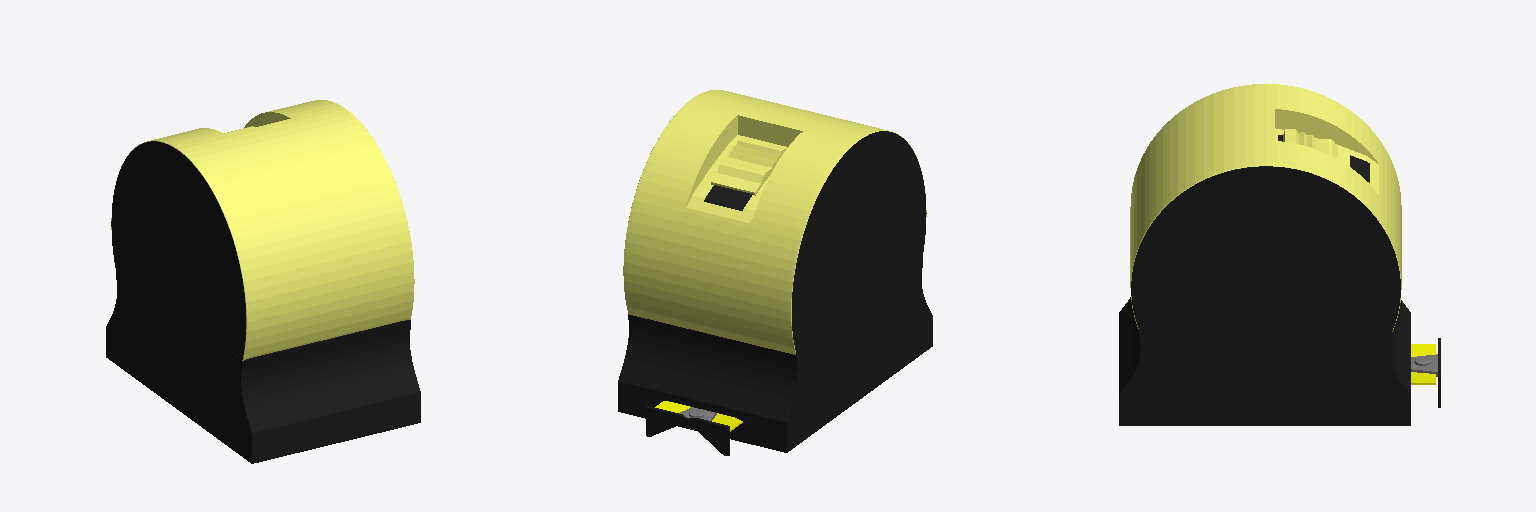
The model's file is Tape.obj.
3 renders of one model, left to right at view 1: azimuth 30°, elevation 25°; view 2: azimuth 150°, elevation 25°; view 3: azimuth 270°, elevation 25°, orthographic.
Parts seen in each view (by area): view 1: polySurface17; view 2: polySurface17; view 3: polySurface17.
Boxes of the visible parts, x1,y1,x2,y2 form: polySurface17: [106, 100, 420, 463]; polySurface17: [618, 90, 932, 455]; polySurface17: [1119, 84, 1440, 425].
Size of the model in its own units: 0.7587 by 1.13 by 1.25.